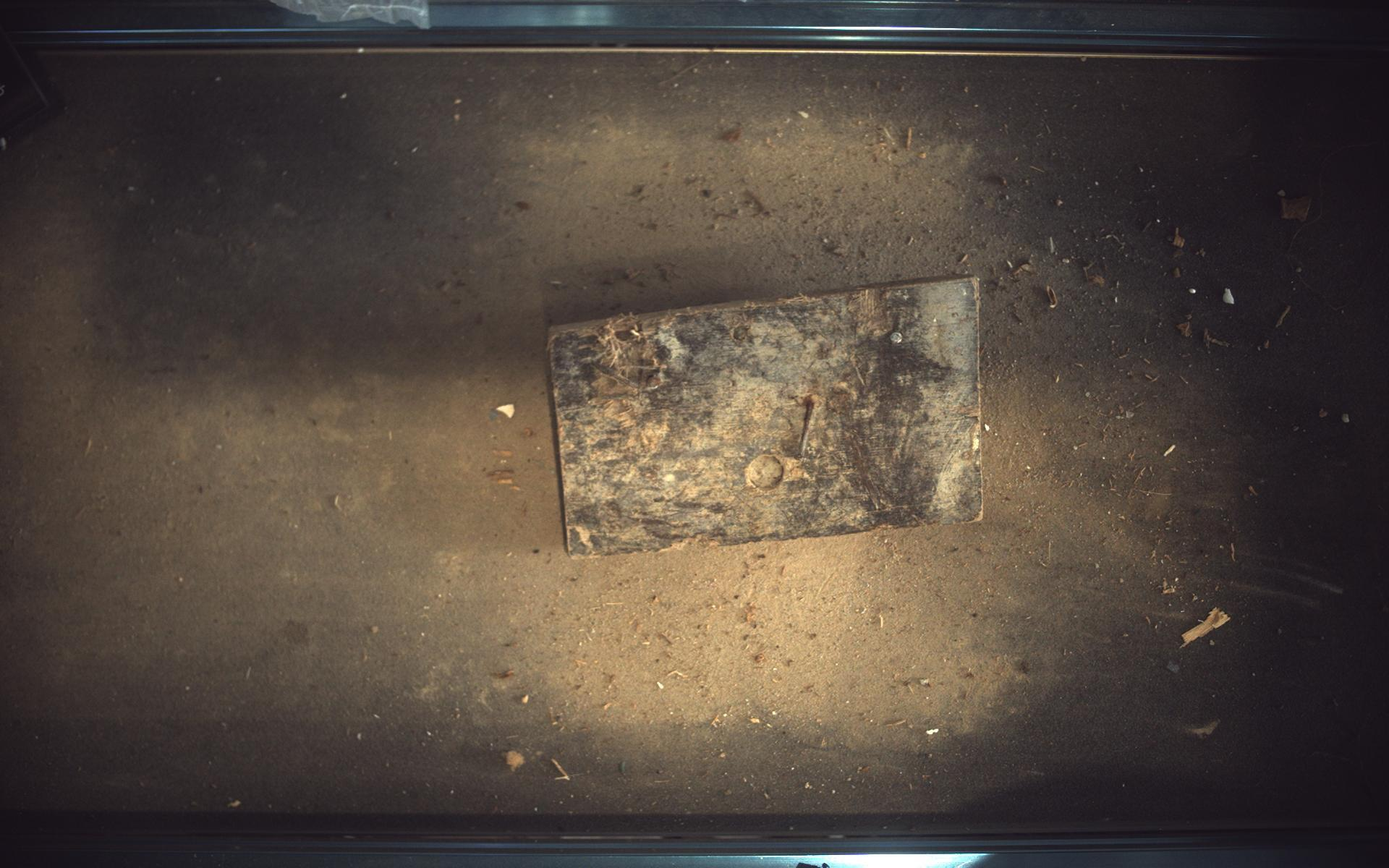wood: (549, 277, 985, 556)
